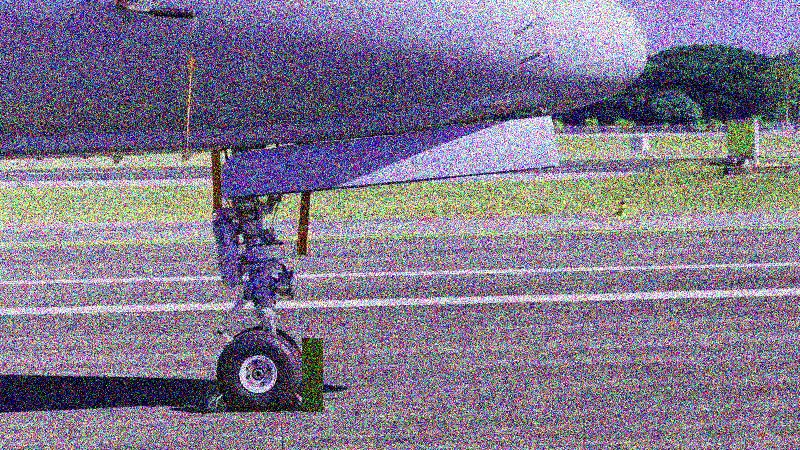chock: (289, 375, 327, 413), (193, 384, 229, 413)
wheel: (215, 324, 307, 413), (231, 324, 302, 359)
